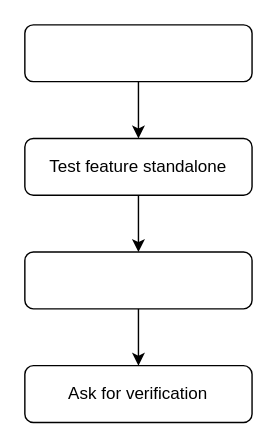
Some shapes in this 277 by 447 pixel diagram are drawn without their labels. The box of each missing label's shape, as (x1, y1, x2, y2) in pixels:
Create feature: (23, 23, 252, 82)
Upload and test feature: (23, 251, 252, 309)
